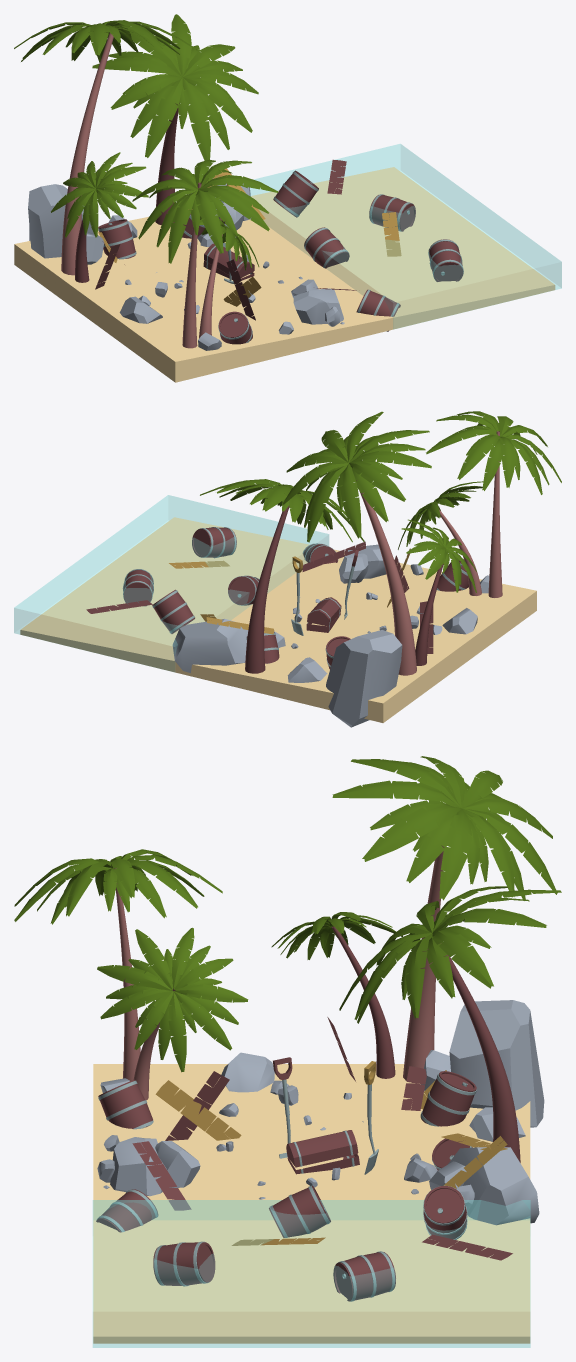
The model's file is island1.glb.
3 views of the same model, one above another, from view 1: azimuth 30°, elevation 25°; view 2: azimuth 150°, elevation 25°; view 3: azimuth 270°, elevation 25° (orthographic). The views are drawn at different scales.
Parts seen in each view (by area): view 1: sand, sea, foliage, foliage.3, foliage.5, foliage.4, rock.010, trunk.4, rock.012, barrel.006, trunk.3, barrel.003 (+15 smaller); view 2: sand, sea, foliage.4, rock.010, foliage.3, rock.004, foliage, trunk.4, trunk, foliage.5, barrel.006, trunk.3 (+15 smaller); view 3: sand, sea, foliage.4, foliage.2, foliage, rock.010, foliage.3, rock.004, trunk, trunk.4, barrel.006, barrel.007 (+20 smaller).
Part boxes in pixels (bbox=[...]): sand: bbox=[14, 167, 555, 382]; sea: bbox=[250, 144, 561, 329]; foliage: bbox=[92, 14, 258, 160]; foliage.3: bbox=[132, 159, 278, 263]; foliage.5: bbox=[51, 152, 148, 237]; foliage.4: bbox=[14, 20, 196, 62]; rock.010: bbox=[28, 184, 93, 258]; trunk.4: bbox=[61, 33, 113, 275]; rock.012: bbox=[293, 288, 343, 324]; barrel.006: bbox=[428, 239, 463, 281]; trunk.3: bbox=[182, 182, 201, 348]; barrel.003: bbox=[304, 227, 349, 268]; sand: bbox=[20, 517, 536, 722]; sea: bbox=[14, 495, 328, 671]; foliage.4: bbox=[283, 411, 431, 542]; rock.010: bbox=[326, 630, 402, 727]; foliage.3: bbox=[426, 411, 561, 494]; rock.004: bbox=[172, 618, 248, 672]; foliage: bbox=[200, 479, 364, 542]; trunk.4: bbox=[356, 480, 416, 675]; trunk: bbox=[245, 505, 289, 673]; foliage.5: bbox=[401, 519, 476, 592]; barrel.006: bbox=[192, 527, 236, 558]; trunk.3: bbox=[488, 431, 502, 597]; sand: bbox=[93, 1064, 530, 1343]; sea: bbox=[93, 1200, 530, 1347]; foliage.4: bbox=[332, 756, 557, 900]; foliage.2: bbox=[97, 927, 248, 1072]; foliage: bbox=[339, 886, 561, 1023]; rock.010: bbox=[449, 1000, 544, 1127]; foliage.3: bbox=[14, 849, 222, 924]; rock.004: bbox=[447, 1147, 539, 1225]; trunk: bbox=[441, 943, 520, 1162]; trunk.4: bbox=[403, 845, 444, 1082]; barrel.006: bbox=[153, 1241, 215, 1286]; barrel.007: bbox=[333, 1251, 395, 1301].
Size of what is drawn, in the model's own units: 10.25 by 6.54 by 8.75.
